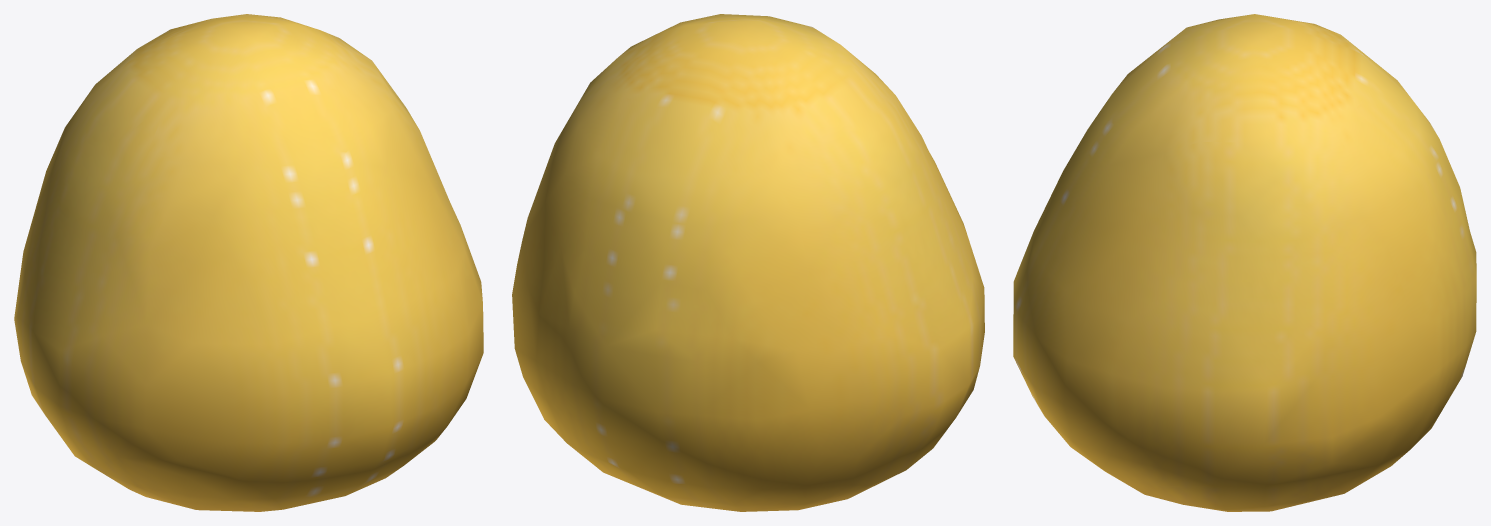
3 renders of one model, left to right at view 1: azimuth 30°, elevation 25°; view 2: azimuth 150°, elevation 25°; view 3: azimuth 270°, elevation 25°, orthographic. The views are drawn at different scales.
Size of the model in its own units: 0.9614 by 1.01 by 0.9488.
Materials: 1 (1 with a texture image).
